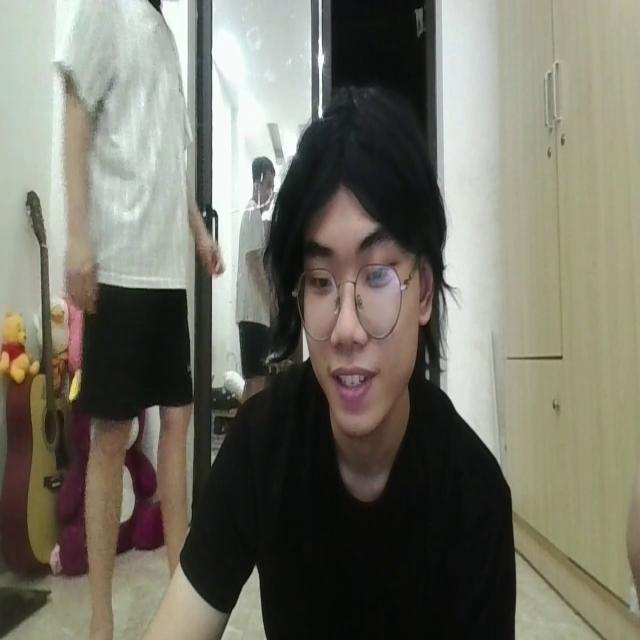extra_person: (60, 0, 214, 561)
student: (132, 77, 516, 640)
